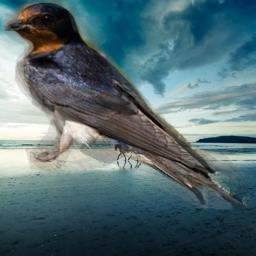Swallow: (4, 0, 254, 216)
